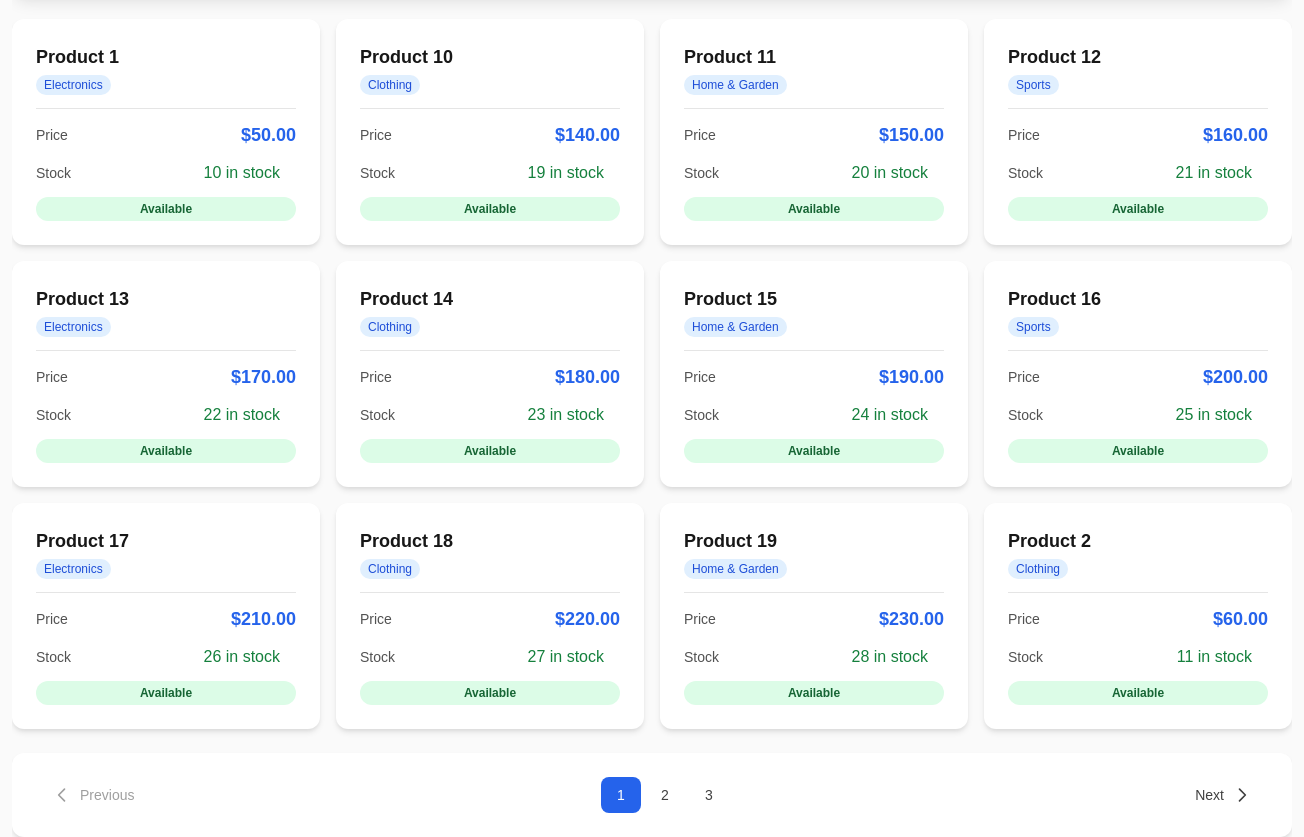
it: ProductList Page › Pagination › should disable next button on last page
(page scrolled)
// Navigate to last page
What coordinates should you click on to do the following:
click the button "3"
I would click on:
 (709, 795)
Its box is [689,777,729,813].
(page scrolled)
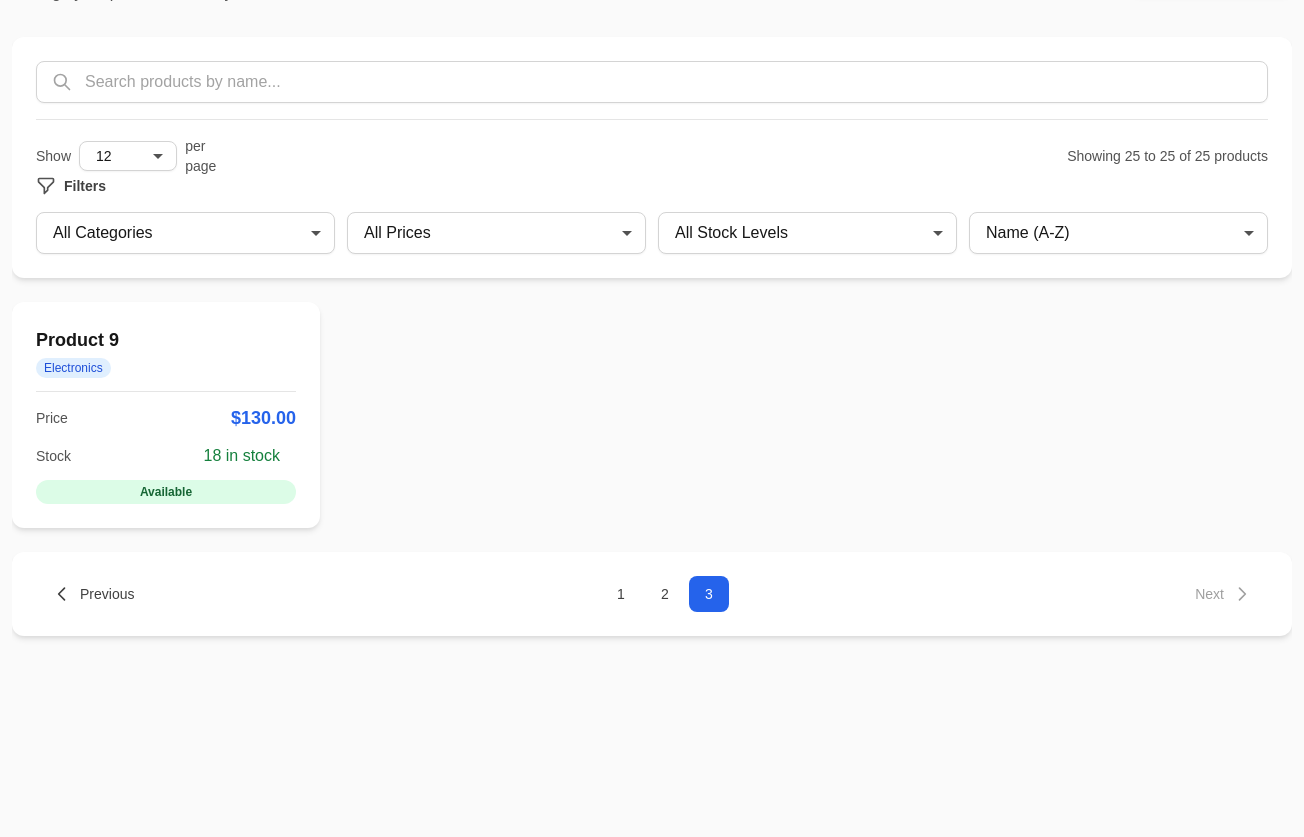
Result: the button "Next" is disabled at [1179,576,1268,612]
